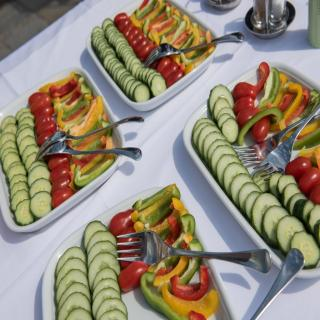Cucumber: (191, 84, 320, 269), (56, 225, 127, 319), (0, 106, 55, 226), (89, 20, 166, 104), (28, 191, 52, 218)
Salad: (190, 59, 320, 270), (54, 179, 218, 320), (0, 69, 115, 226), (91, 0, 217, 101)
